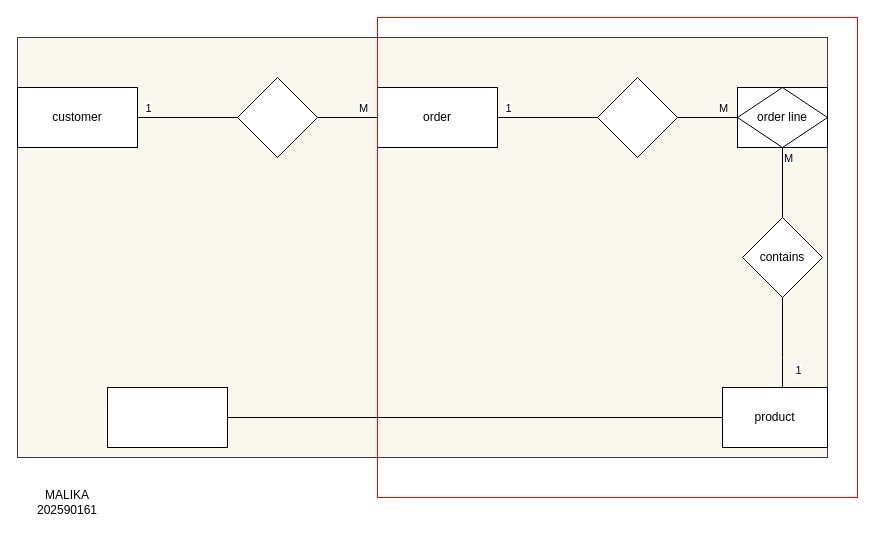
This 875x535 diagram has some shape labels left out. Each missing label, with the centre of its shape:
"distributer" belongs at point 167,417.
"has" belongs at point 637,117.
"places" belongs at point 277,117.
